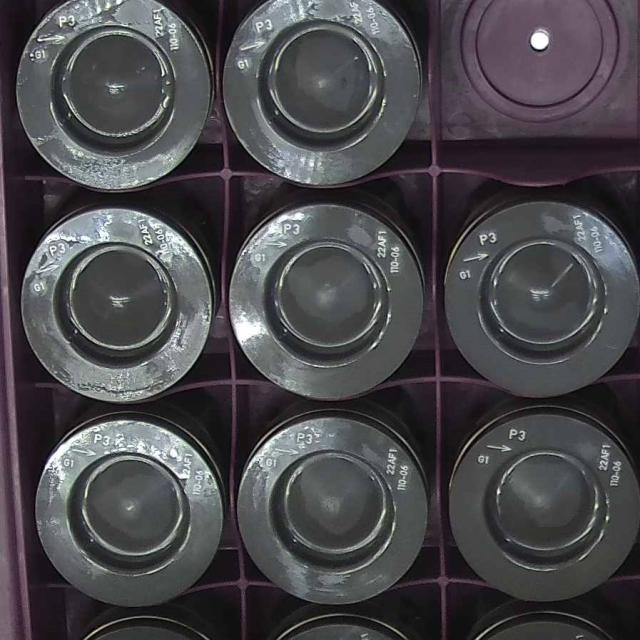P3: (12, 2, 218, 194), (34, 410, 230, 608), (439, 196, 633, 396), (13, 211, 215, 399), (229, 0, 432, 186), (231, 204, 424, 398), (238, 418, 437, 604), (452, 409, 636, 598)
